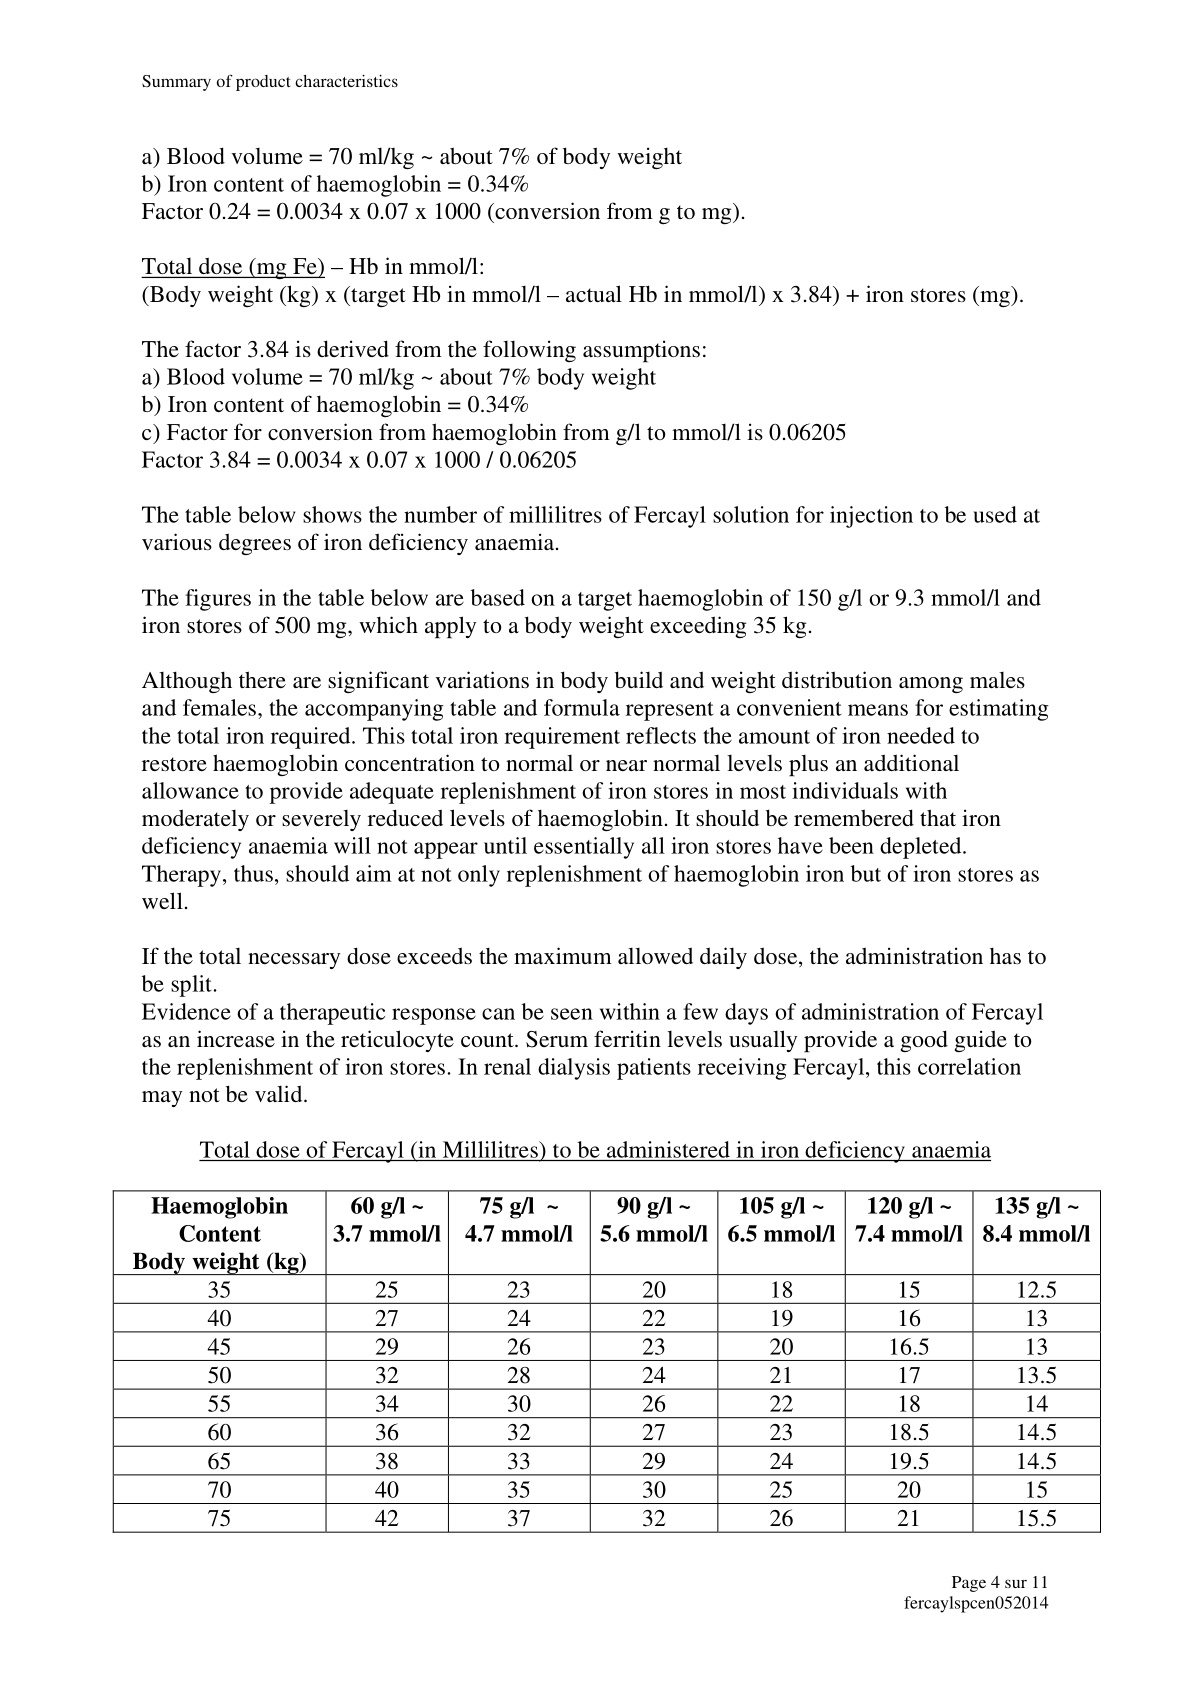full_lined: (111, 1189, 1101, 1533)
